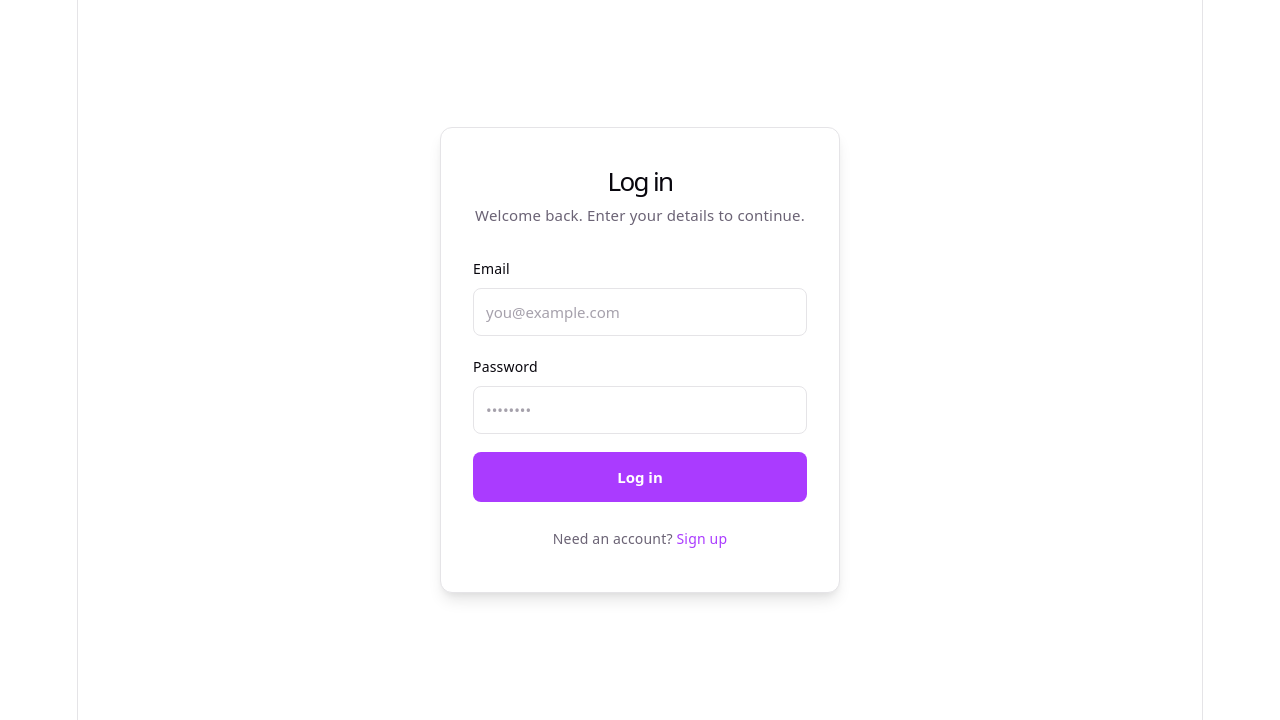
Test case: LoginPage › blocks submission and shows validation errors on invalid input
Click the button "Log in".
click(640, 477)  # box [473,452,807,502]
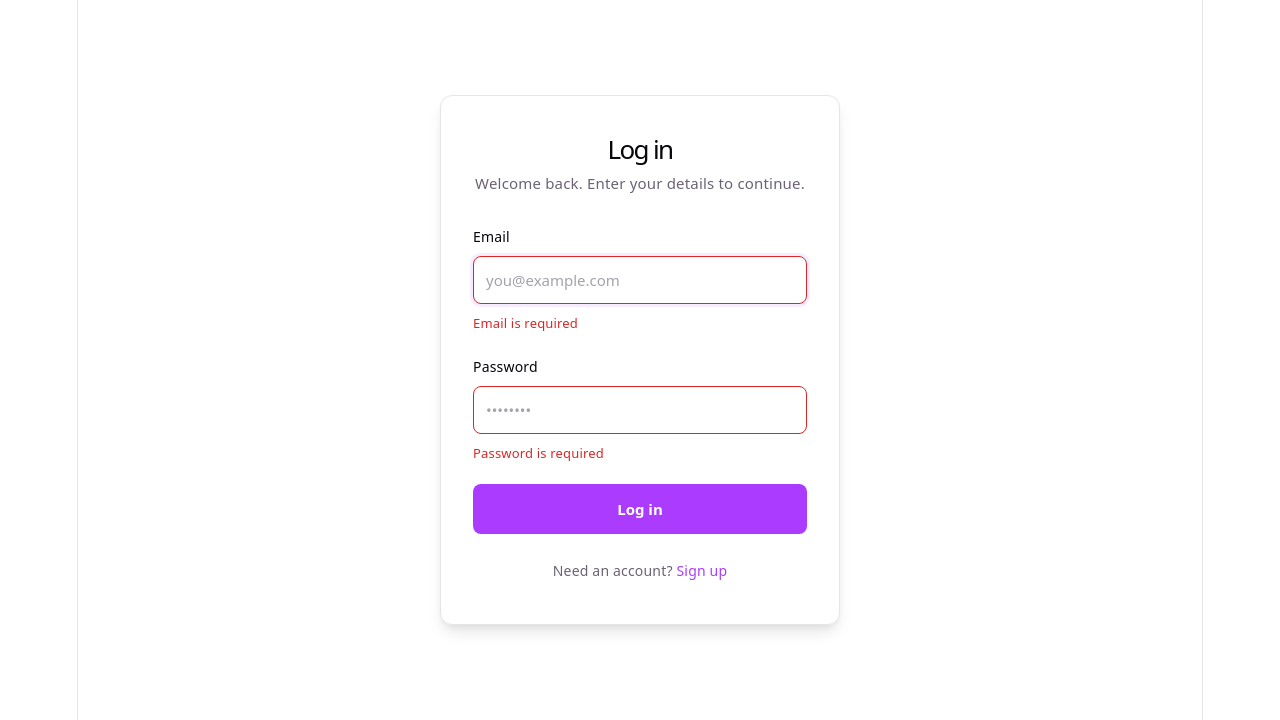
Result: the text "Email is required" is shown at [473,314,578,332]
Result: the text "Password is required" is shown at [473,444,604,462]
